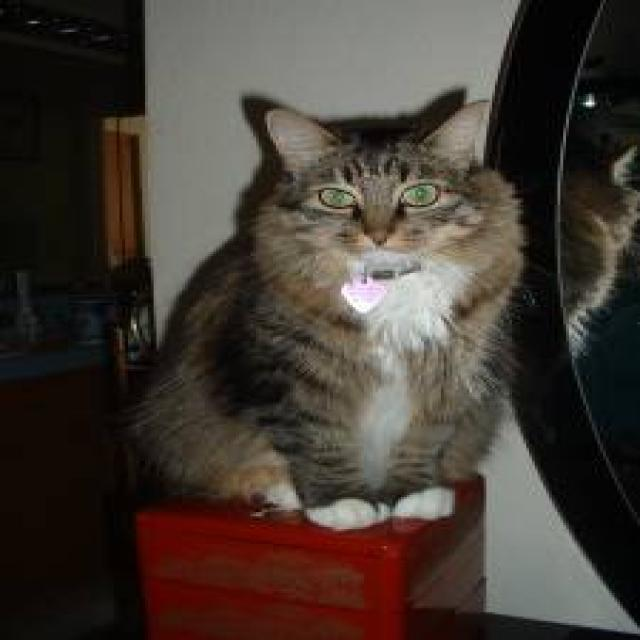Maine_Coon: (239, 96, 526, 314)
